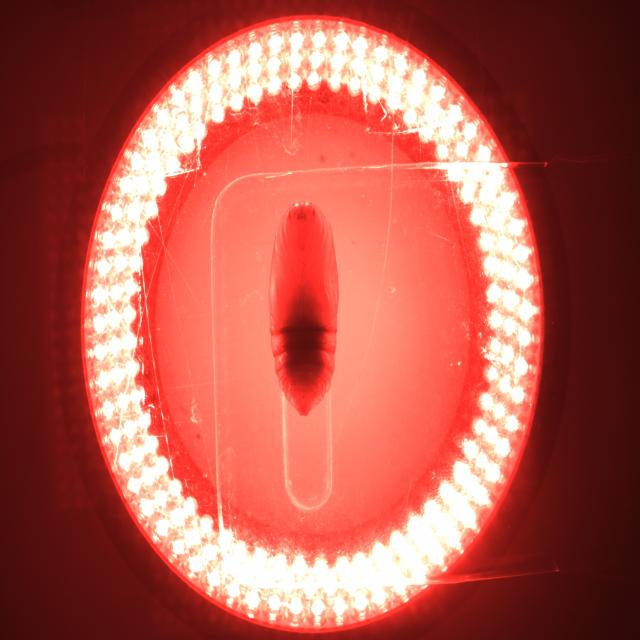female: (302, 391, 307, 400)
